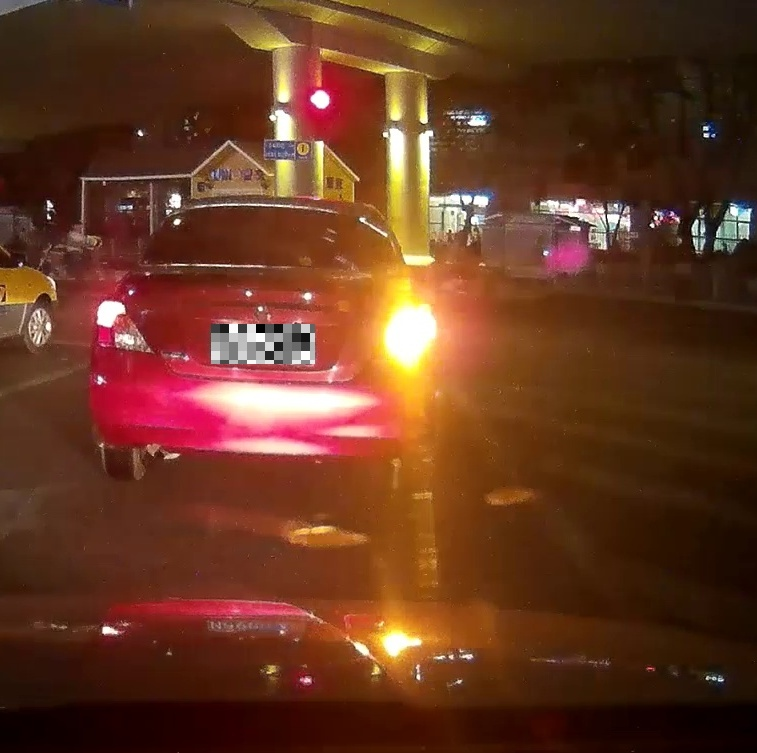L_light: (95, 301, 153, 351)
R_light: (371, 308, 428, 363), (250, 205, 292, 215)
night-right: (88, 194, 429, 499)
plate_1: (211, 324, 315, 364)
